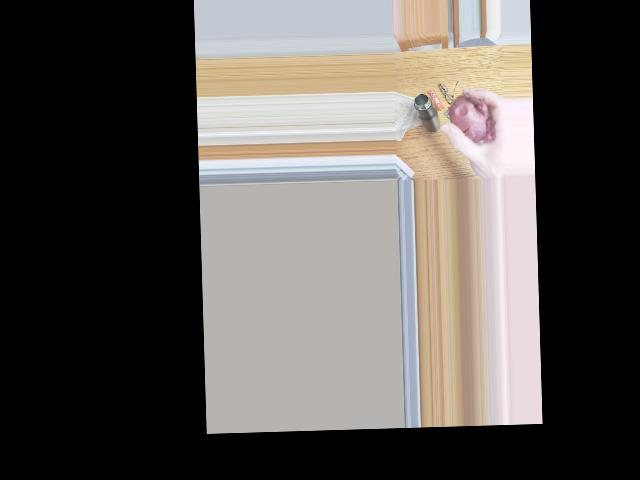onion: (454, 87, 493, 147)
